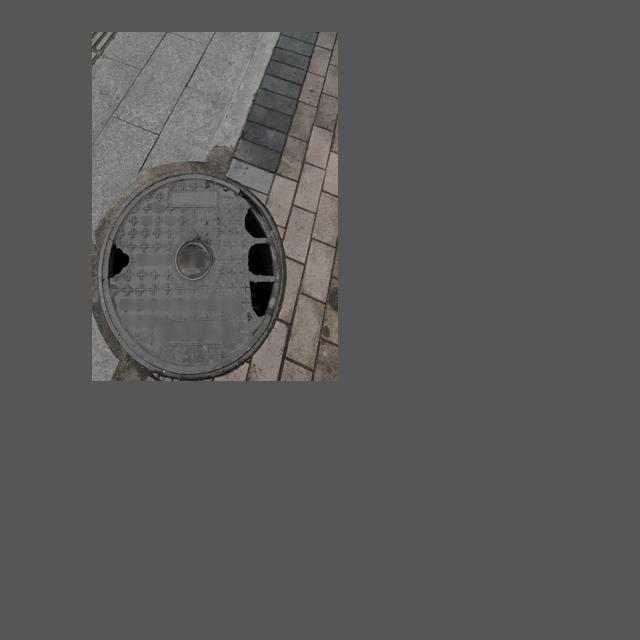broke: (101, 186, 281, 373)
